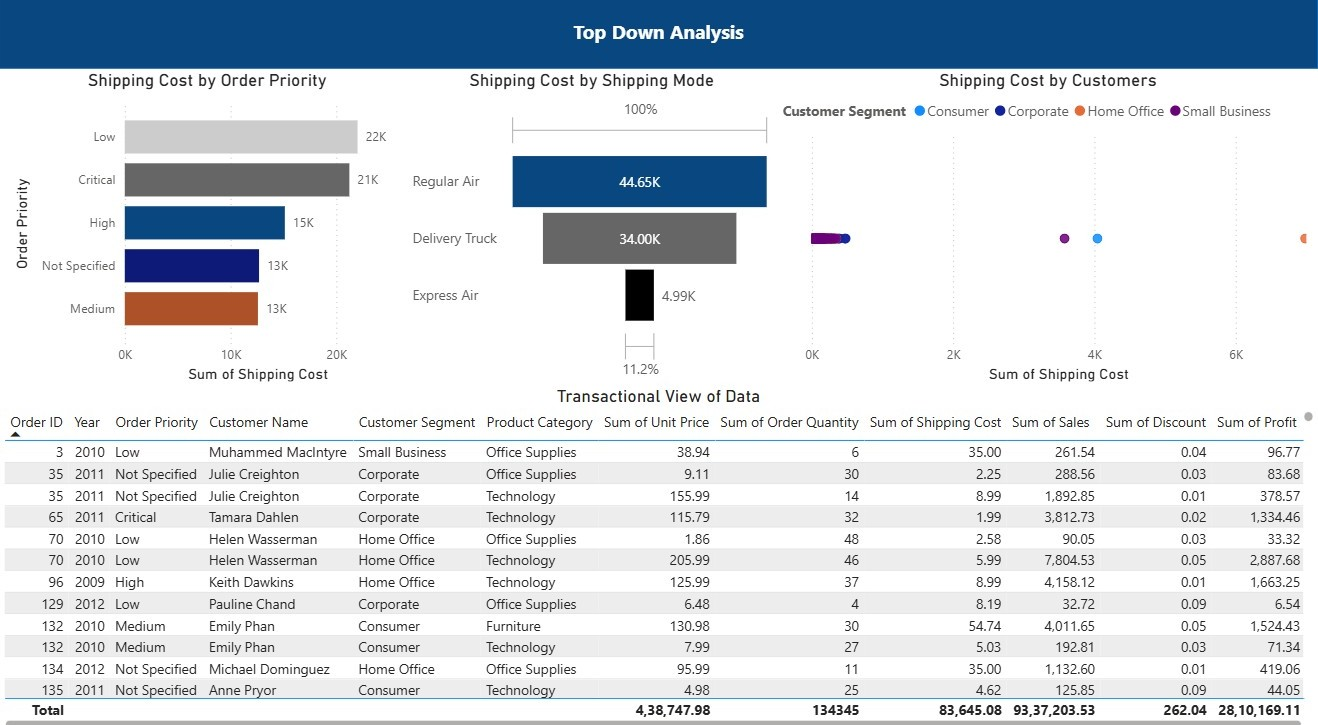

Layout of this report page (visuals, bound fields, positions):
{"tool":"powerbi","page":{"name":"Top Down Analysis","canvas":[1280,720],"ordinal":0},"visuals":[{"type":"barChart","title":"Shipping Cost by Order Priority","fields":{"Y":["Sum(Orders.Shipping Cost)"],"Category":["Orders.Order Priority"]},"box":[9.4,73.6,387,307.7],"z":0},{"type":"funnel","title":"Shipping Cost by Shipping Mode","fields":{"Y":["Sum(Orders.Shipping Cost)"],"Category":["Orders.Ship Mode"]},"box":[396.5,73.6,358.7,307.7],"z":1},{"type":"scatterChart","title":"Shipping Cost by Customers","fields":{"X":["Sum(Orders.Shipping Cost)"],"Category":["Orders.Customer Name"],"Series":["Orders.Customer Segment"]},"box":[755.2,73.6,524.8,307.7],"z":2},{"type":"tableEx","title":"Transactional View of Data","fields":{"Values":["Orders.Order ID","Orders.Order Date.Variation.Date Hierarchy.Year","Orders.Order Priority","Orders.Customer Name","Orders.Customer Segment","Orders.Product Category","Sum(Orders.Unit Price)","Sum(Orders.Order Quantity)","Sum(Orders.Shipping Cost)","Sum(Orders.Sales)","Sum(Orders.Discount)","Sum(Orders.Profit)"]},"box":[0,381.4,1280,337.9],"z":3},{"type":"shape","box":[0,0,1280,73.6],"z":4}]}

Visuals, with their boxes in screenshot pixels (x1, y1, x2, y2), scaled from the page's 1280x720 canvas onto the 1318x725 screenshot:
"Shipping Cost by Order Priority" barChart: 10, 74, 408, 384
"Shipping Cost by Shipping Mode" funnel: 408, 74, 778, 384
"Shipping Cost by Customers" scatterChart: 778, 74, 1317, 384
"Transactional View of Data" tableEx: 0, 384, 1317, 724
shape: 0, 0, 1317, 74
